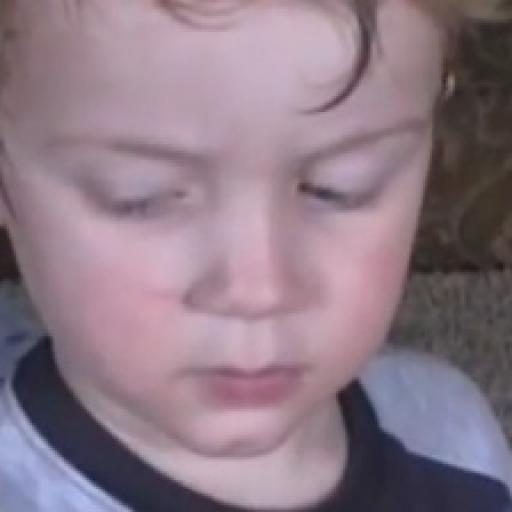Autism: (51, 3, 484, 463)
